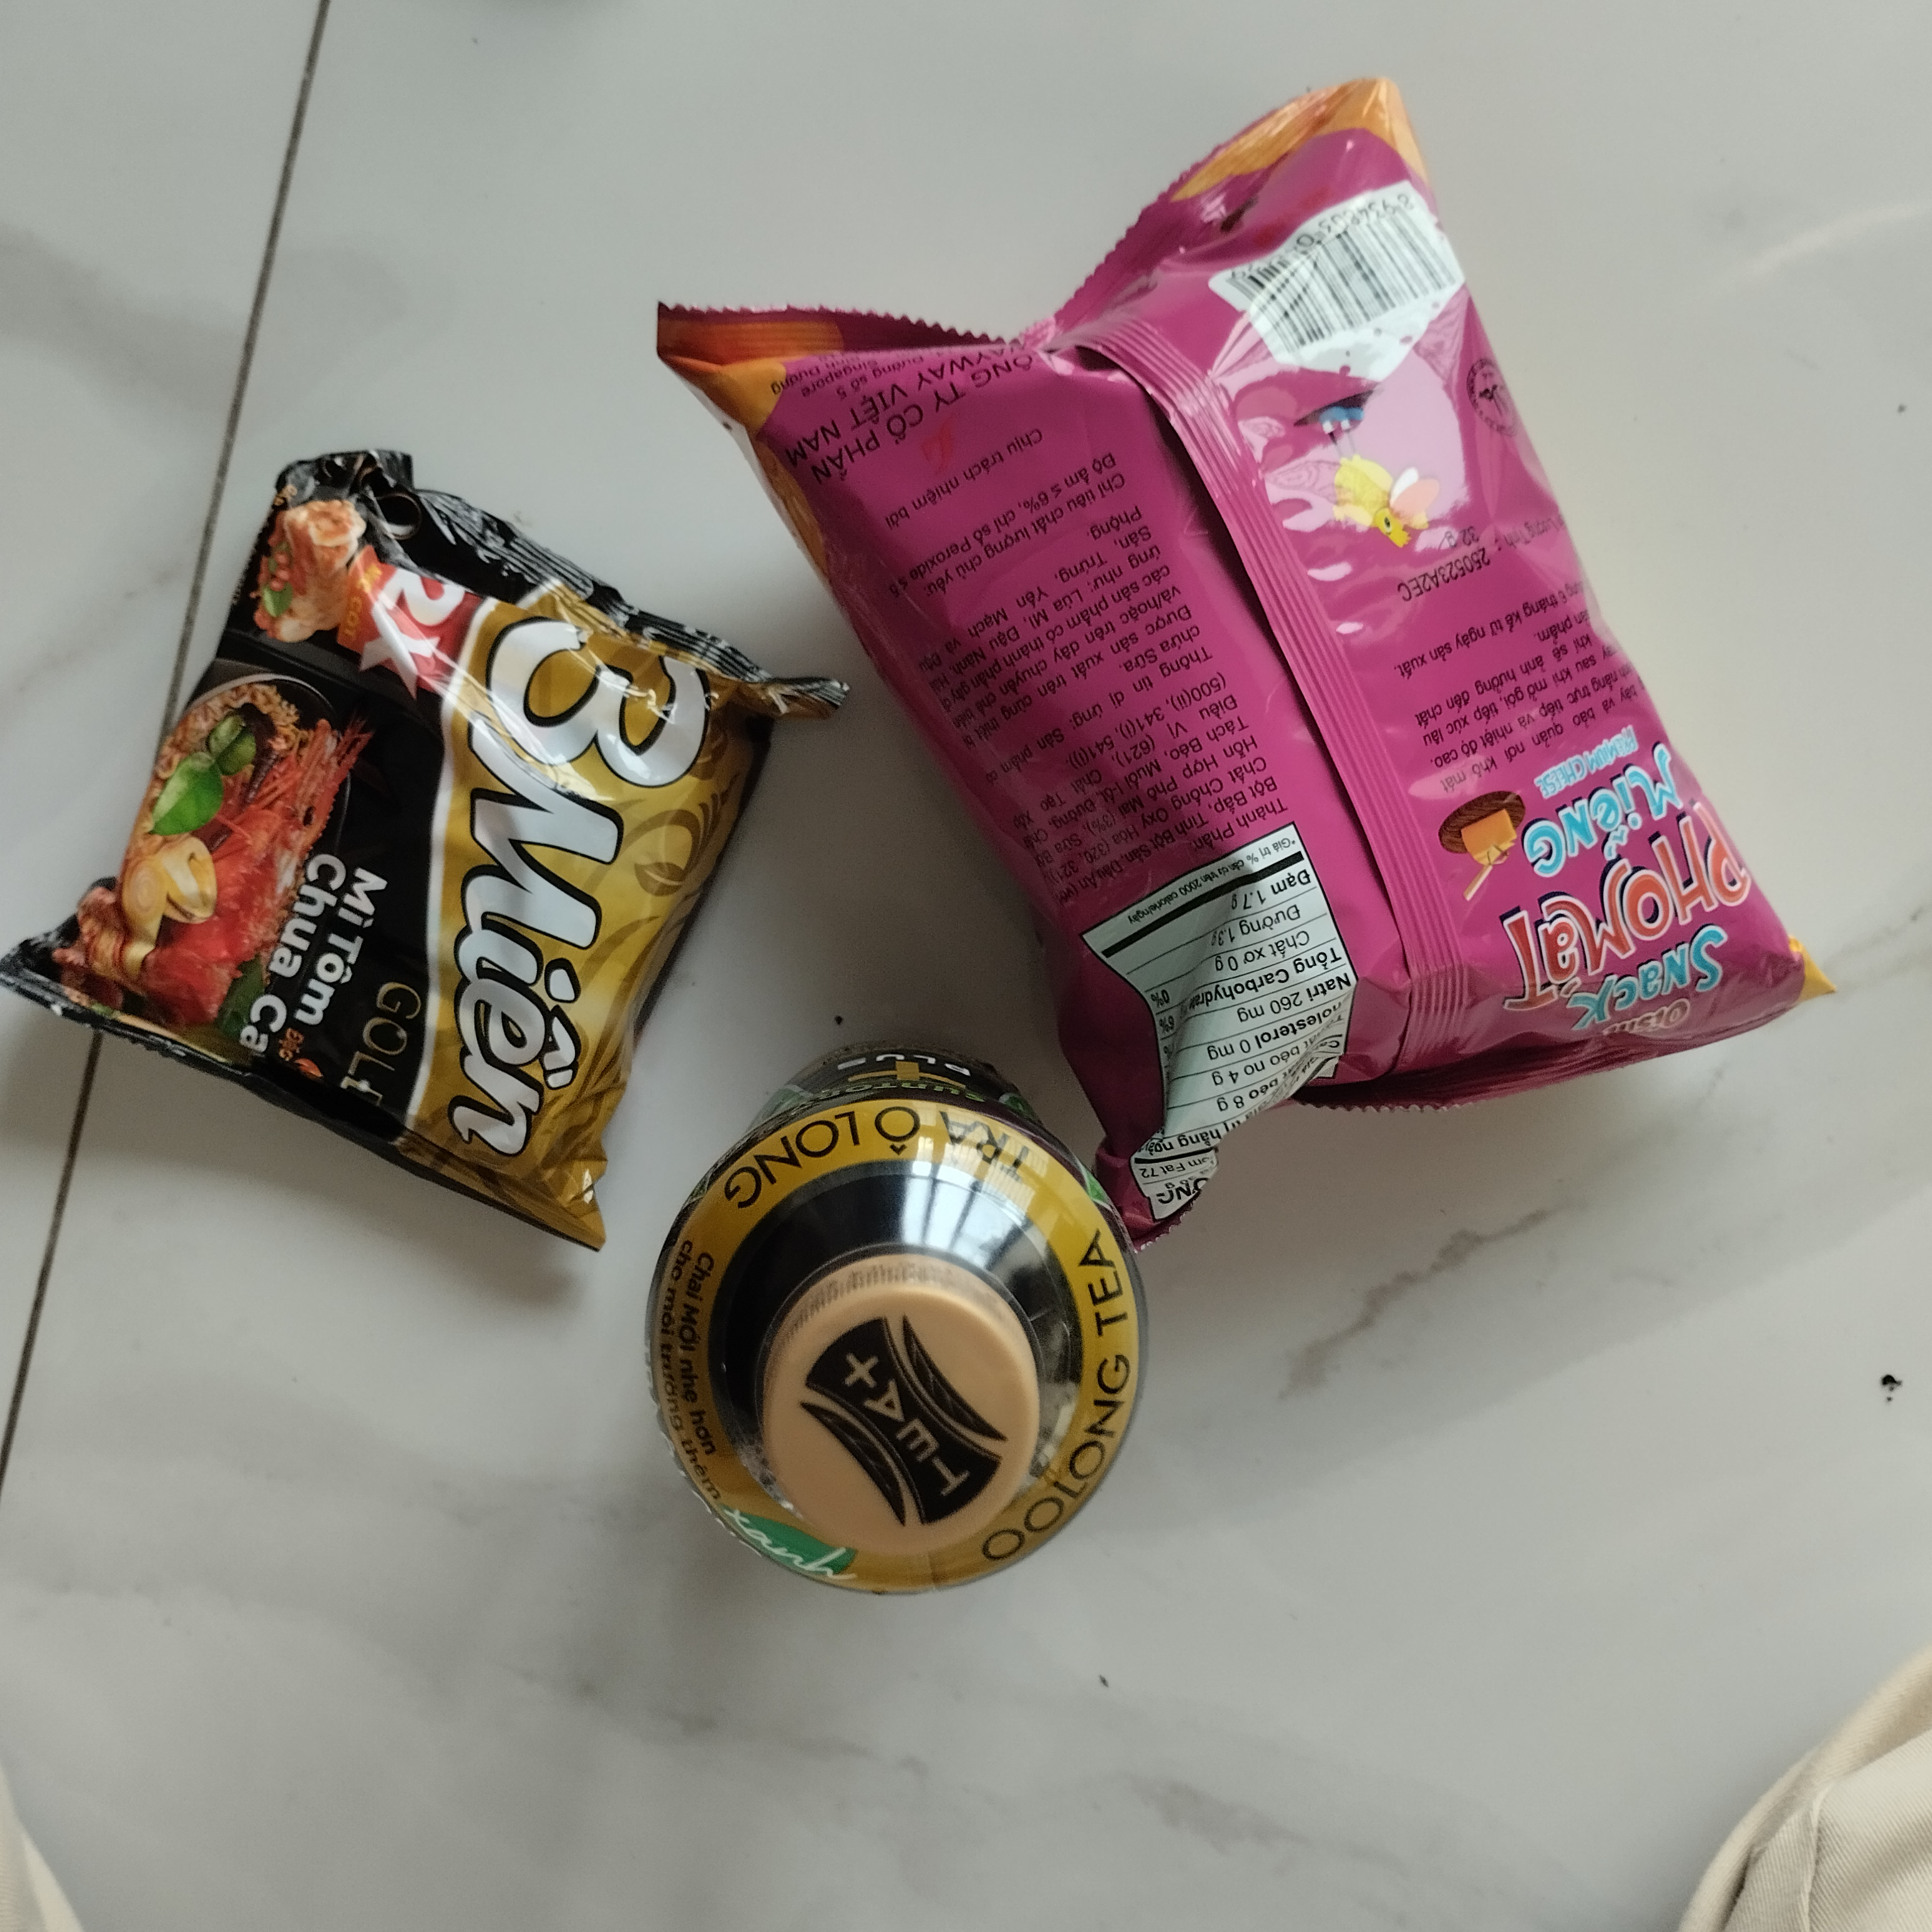3mien: (7, 453, 846, 1261)
Oishi_phomat: (655, 71, 1835, 1230)
Olong: (642, 1044, 1155, 1606)
